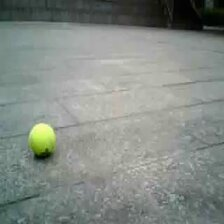tennis: (29, 124, 57, 154)
